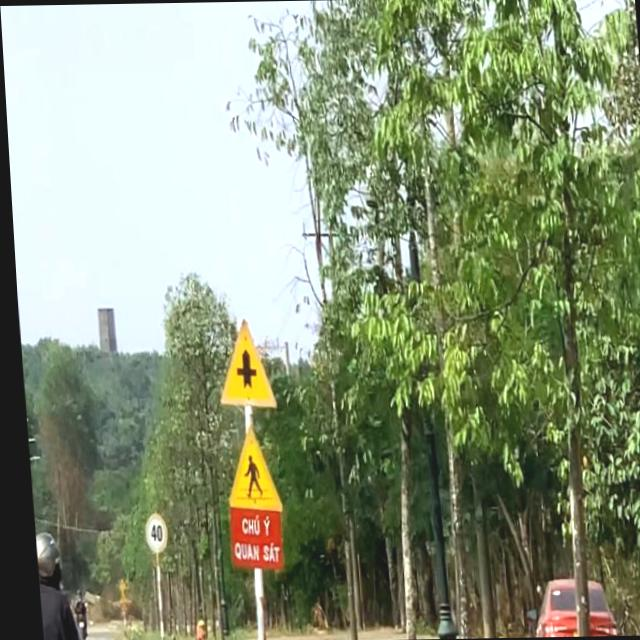Giao nhau voi duong khong uu tien: (206, 311, 275, 414)
Nguoi di bo cat ngang: (212, 416, 280, 517)
Toc do toi da cho phep: (135, 513, 164, 554)
